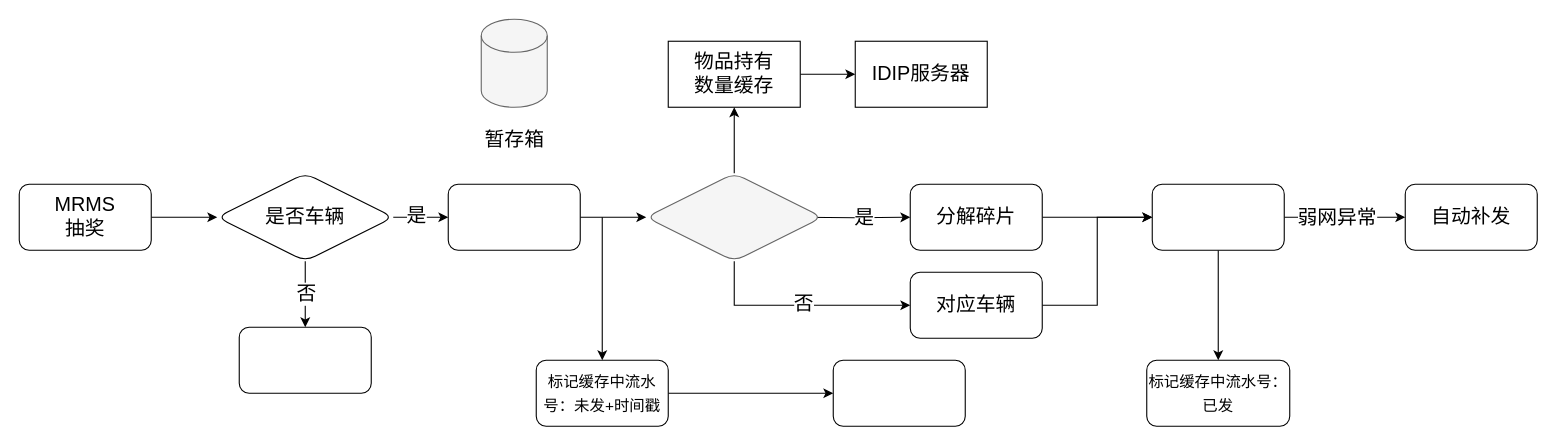
Image size: 1557x446. Some labels were removed from this diagram. Each missing label, with the centre of its shape:
"发其他道具" belongs at pixel 304 359.
"发车辆积分" belongs at pixel 513 216.
"各车辆总数量 是否达到阈值" belongs at pixel 733 216.
"后台脚本定时检查超时补发" belongs at pixel 898 392.
"汇总批量发货" belongs at pixel 1217 216.
